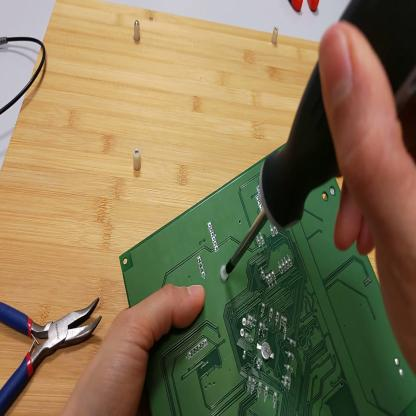hand: (319, 26, 416, 376), (63, 283, 205, 415)
low voltage board: (119, 145, 416, 416)
pliers: (2, 288, 103, 415), (293, 2, 321, 14)
screwdriver-: (224, 2, 415, 275)
working area: (2, 3, 380, 415)
